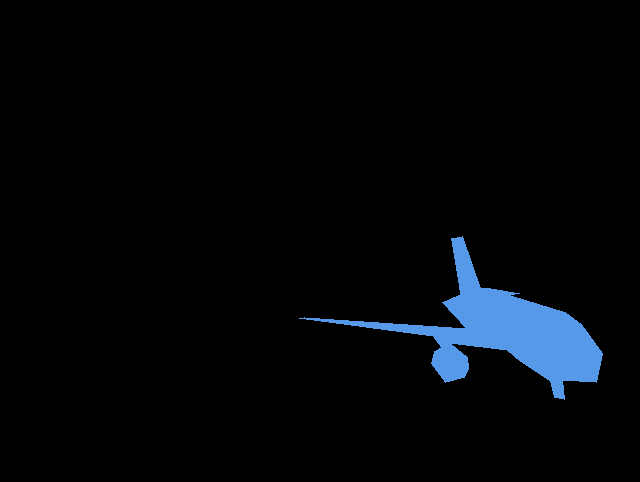Airplane: (299, 236, 602, 400)
